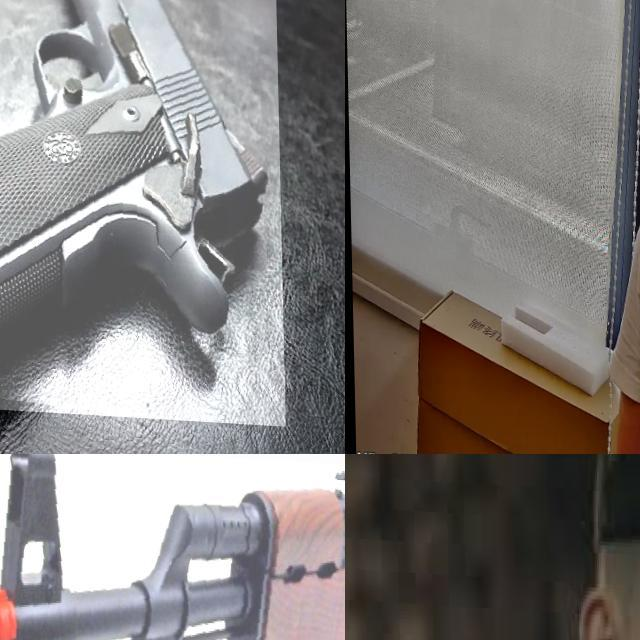gun-knife-thesis - v11 Yolov5 augmented: (0, 0, 282, 420), (0, 454, 345, 640)
